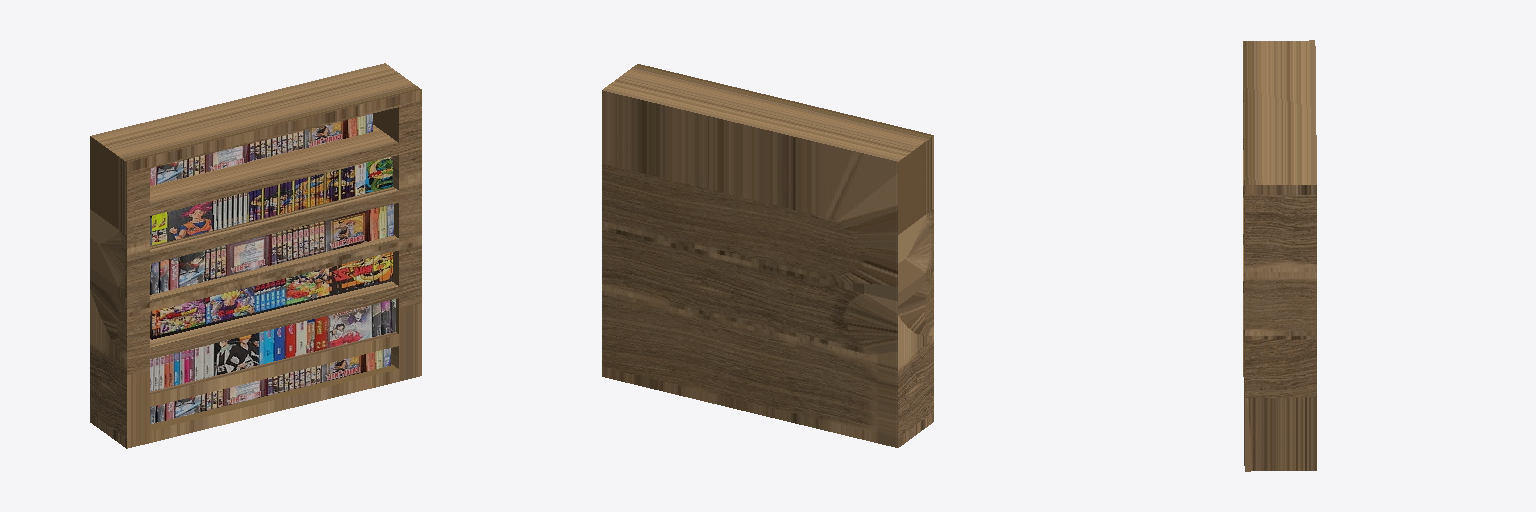
3 views of the same model, side by side, from view 1: azimuth 30°, elevation 25°; view 2: azimuth 150°, elevation 25°; view 3: azimuth 270°, elevation 25° (orthographic).
Visible parts, largest first — view 1: Cube.005_meshId0_name, Cube.002_Cube.003, Cube.001_Cube.002, Cube.006, Cube.007, Cube.003_Cube.004, Cube.004_Cube.005; view 2: Cube.005_meshId0_name; view 3: Cube.005_meshId0_name.
Part boxes in pixels (x1,y1,x2,y2): Cube.005_meshId0_name: (90, 63, 421, 448); Cube.002_Cube.003: (150, 299, 395, 391); Cube.001_Cube.002: (150, 204, 393, 294); Cube.006: (150, 156, 392, 244); Cube.007: (150, 252, 392, 339); Cube.003_Cube.004: (150, 348, 390, 423); Cube.004_Cube.005: (150, 114, 372, 185); Cube.005_meshId0_name: (602, 64, 933, 447); Cube.005_meshId0_name: (1243, 40, 1316, 471).
Bounding box in the file's own units: 1.95 × 1.8 × 0.4216.
7 materials, 2 textured.